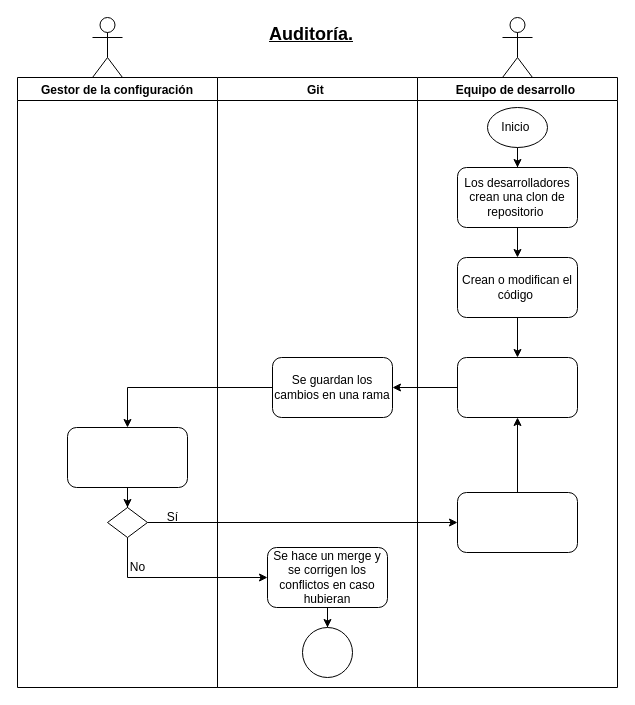
Some shapes in this 635 by 705 pixel diagram are drawn without their labels. Each missing label, with the centre of its shape:
"El desarrollador corrige los conflicos" belongs at point (517, 522).
"El encargo revisa que no existan conflictos" belongs at point (127, 457).
"Envía sus cambios a un área temporal" belongs at point (517, 387).
"Fin" belongs at point (327, 652).
